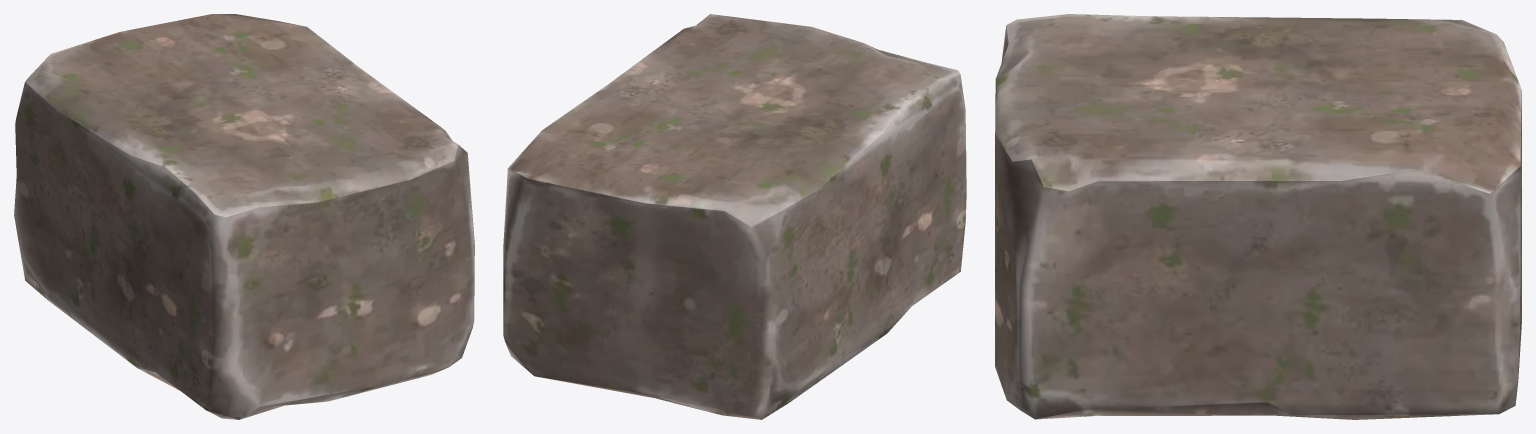
The picture shows the model from 3 angles, left to right: view 1: azimuth 30°, elevation 25°; view 2: azimuth 150°, elevation 25°; view 3: azimuth 270°, elevation 25°; orthographic projection. The views are drawn at different scales.
Parts seen in each view (by area): view 1: SM_River_Bridge_Unique_Bricks_03_LOD0; view 2: SM_River_Bridge_Unique_Bricks_03_LOD0; view 3: SM_River_Bridge_Unique_Bricks_03_LOD0.
Boxes of the visible parts, left/top/right/bottom form: SM_River_Bridge_Unique_Bricks_03_LOD0: left=14, top=14, right=474, bottom=419; SM_River_Bridge_Unique_Bricks_03_LOD0: left=503, top=14, right=966, bottom=419; SM_River_Bridge_Unique_Bricks_03_LOD0: left=995, top=14, right=1521, bottom=419.
Size of the model in its own units: 0.6846 by 0.5276 by 0.9668.
1 material, 1 textured.
